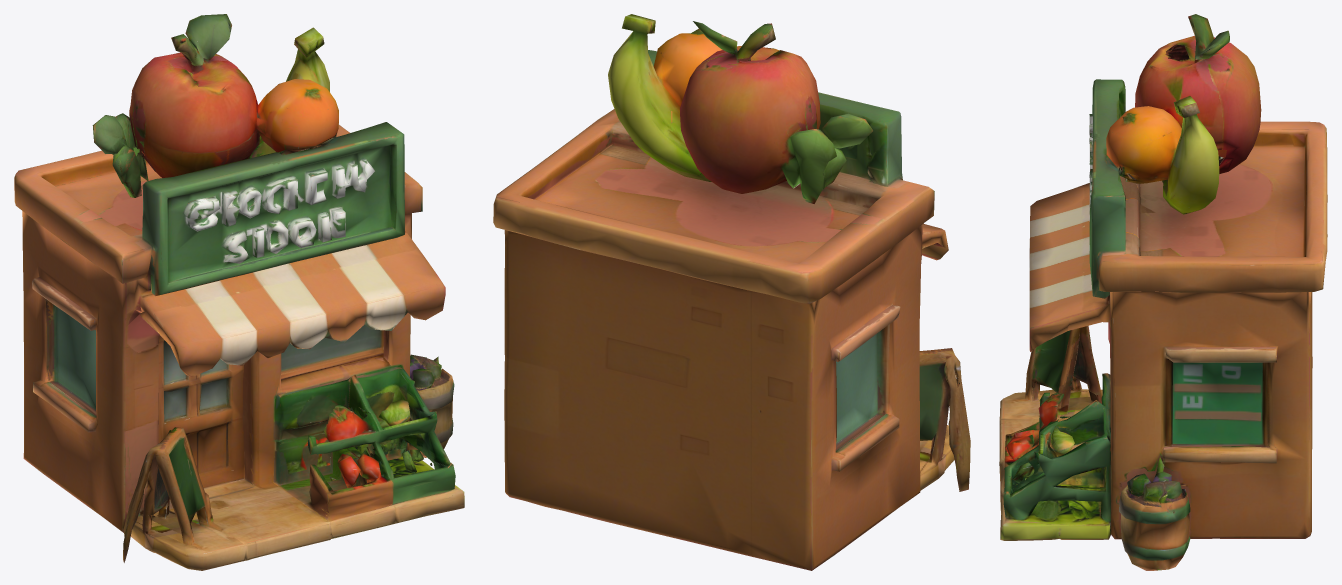
File: Grocery.glb
The picture shows the model from 3 angles, left to right: view 1: azimuth 30°, elevation 25°; view 2: azimuth 150°, elevation 25°; view 3: azimuth 270°, elevation 25°; orthographic projection. The views are drawn at different scales.
Size of the model in its own units: 1.73 by 2.01 by 1.35.
1 material, 1 textured.
